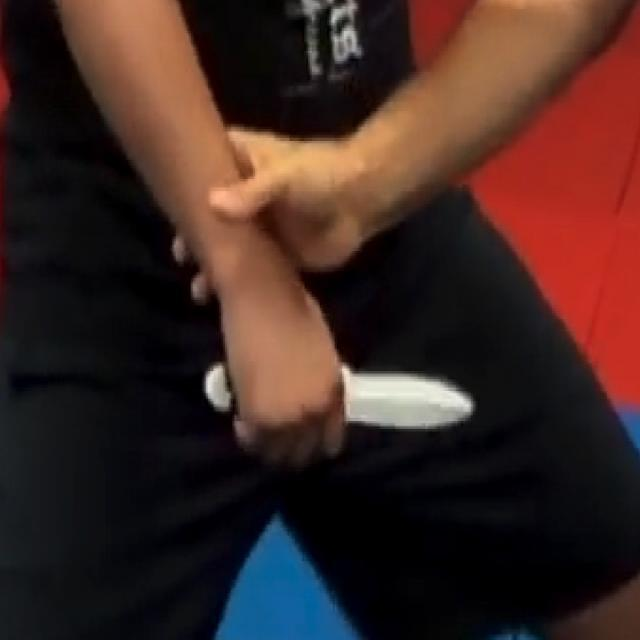suspicion: (54, 6, 484, 476), (341, 362, 479, 434), (203, 362, 234, 412)
